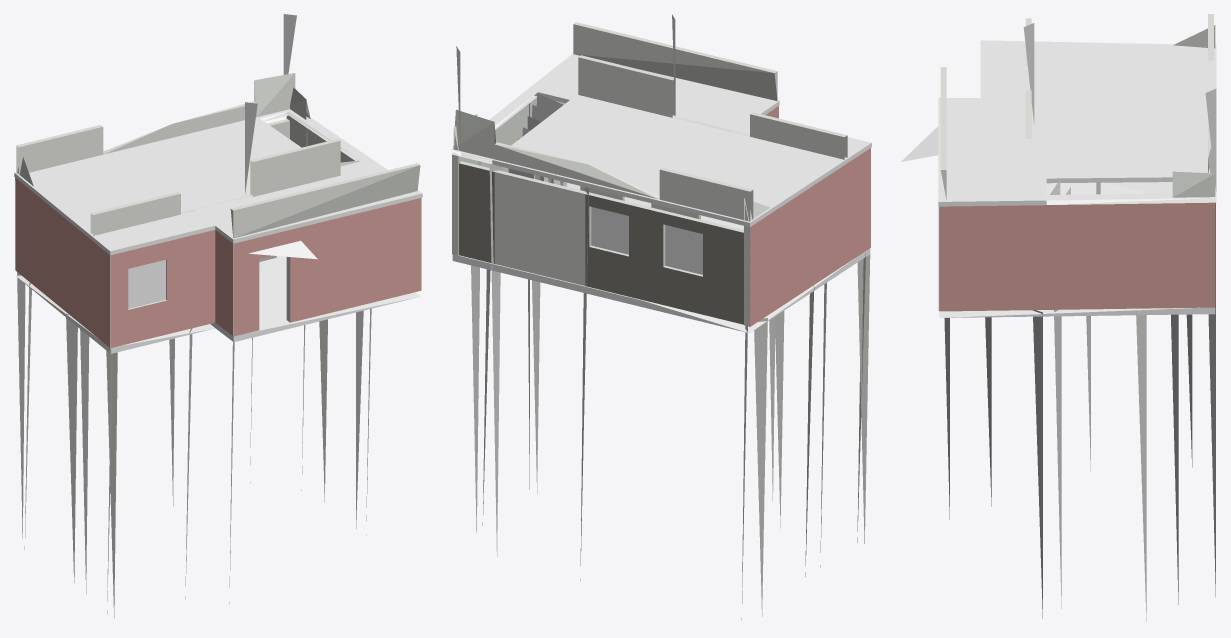
3 views of the same model, side by side, from view 1: azimuth 30°, elevation 25°; view 2: azimuth 150°, elevation 25°; view 3: azimuth 270°, elevation 25° (orthographic). The views are drawn at different scales.
Visible parts, largest first — view 1: F_39; view 2: F_39; view 3: F_39.
Boxes of the visible parts, bbox=[...] form: F_39: bbox=[14, 14, 422, 618]; F_39: bbox=[451, 14, 871, 619]; F_39: bbox=[901, 14, 1216, 621].
Bounding box in the file's own units: 9.01 × 13.78 × 7.45.
